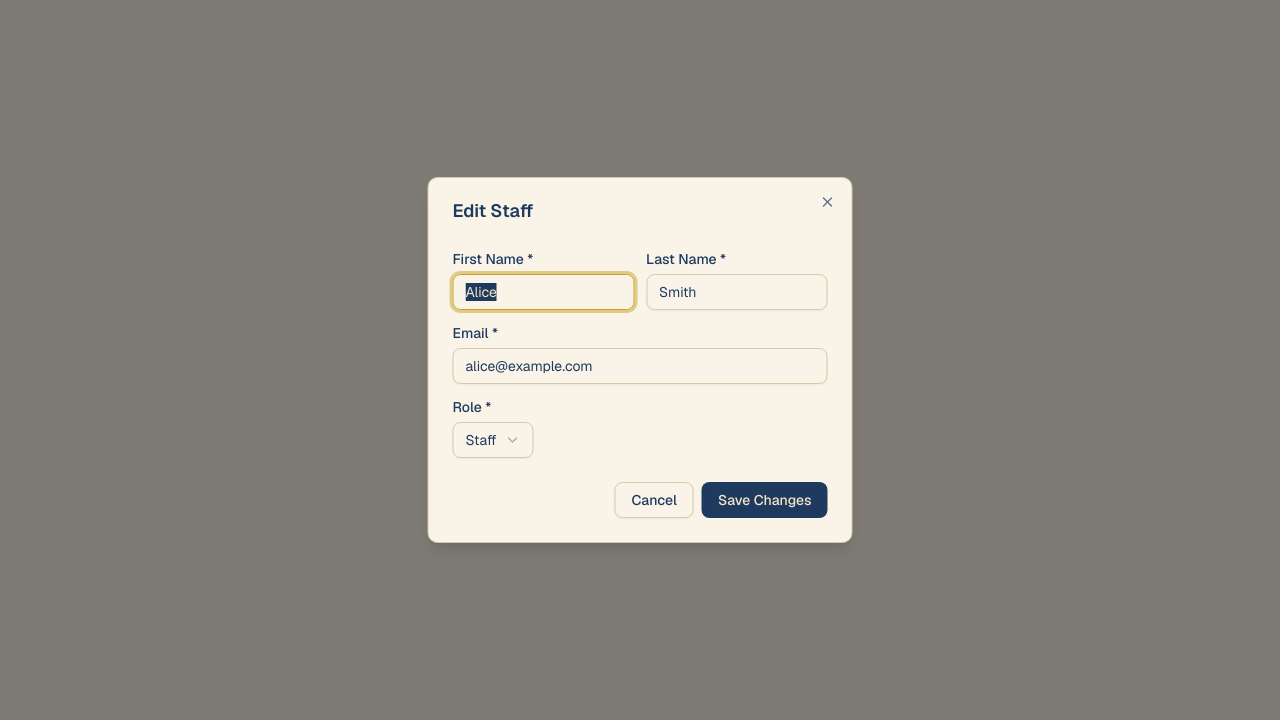
StaffDialog access-reset warning › F4: the warning, the description link and the button label go away when the email is changed back
Replace the text in the field labelled "Email *" with "right.person@example.com" at [640, 366], box [452,348,828,384]
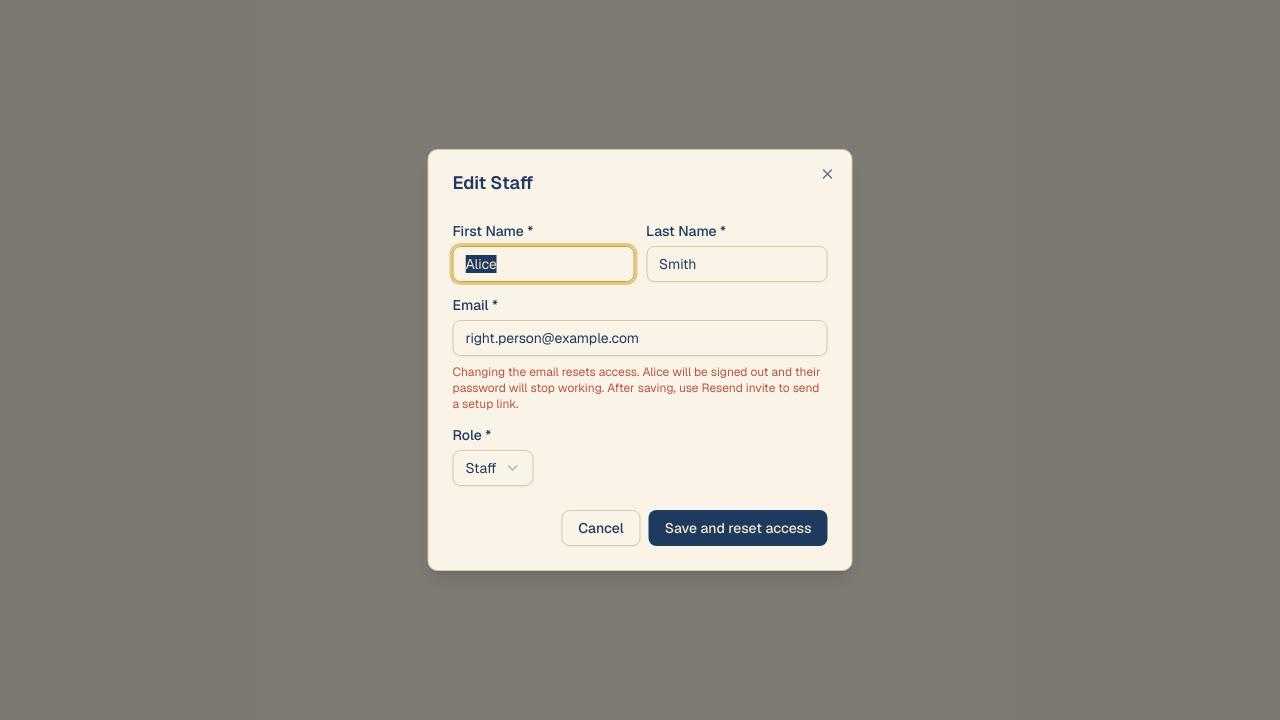
Check: the message is shown, box [452,364,828,412]
Replace the text in the field labelled "Email *" with "alice@example.com" at [640, 338], box [452,320,828,356]
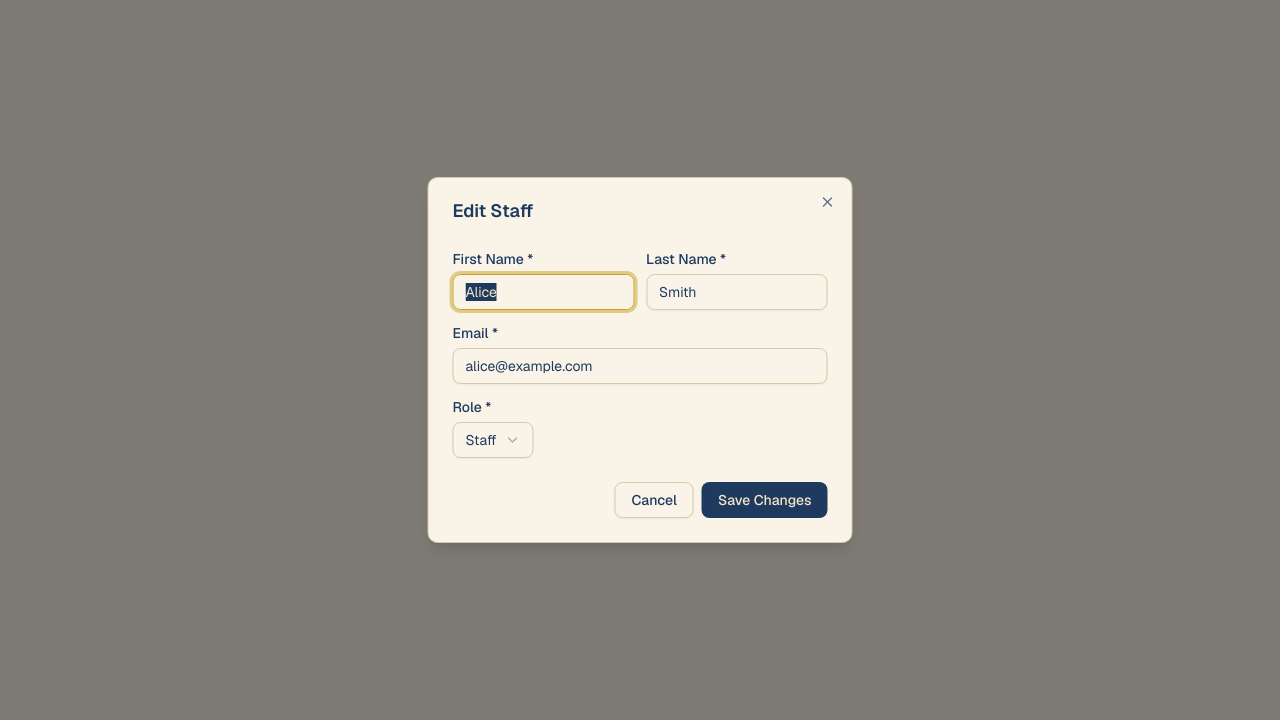
Check: the button "Save Changes" is shown, box [702,482,828,518]
